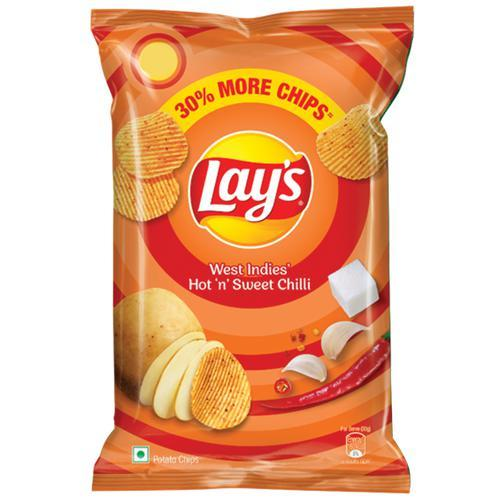Lays: (89, 6, 416, 492)
